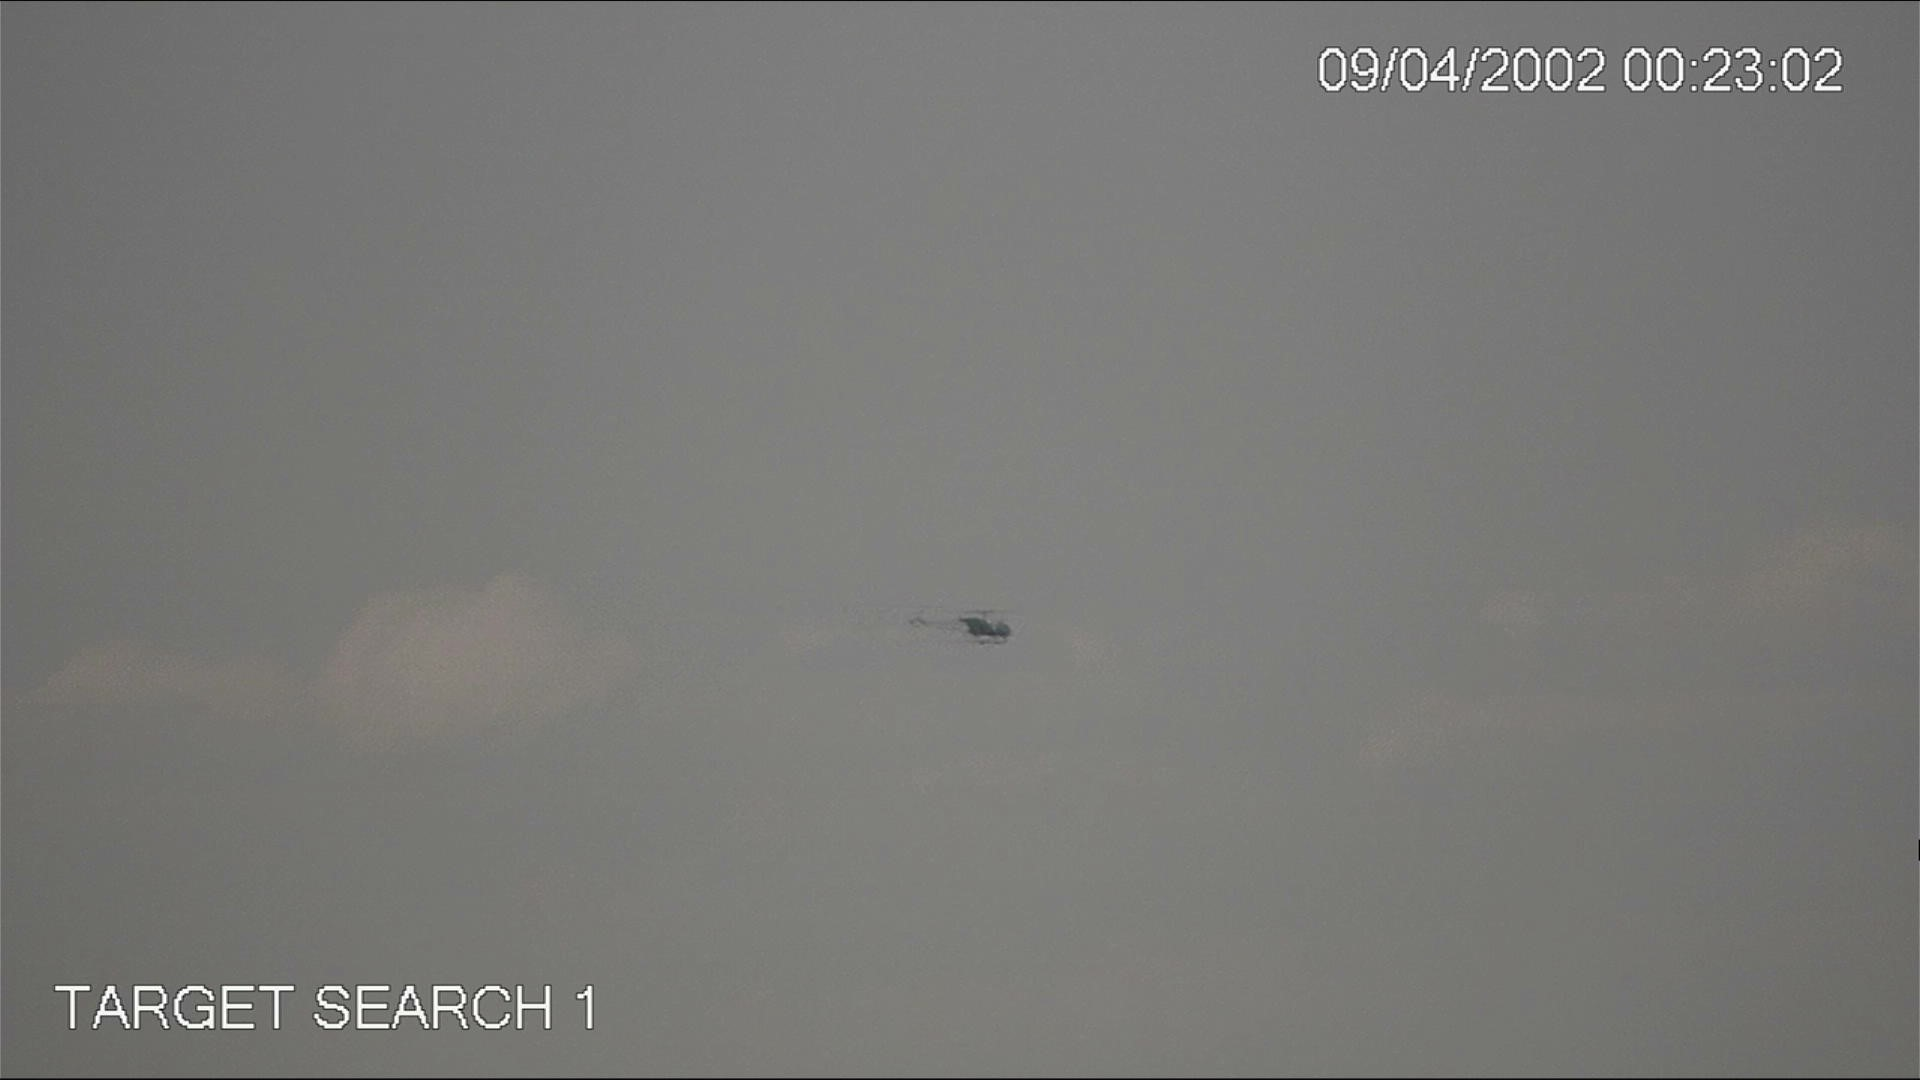SU_30: (903, 592, 1025, 647)
